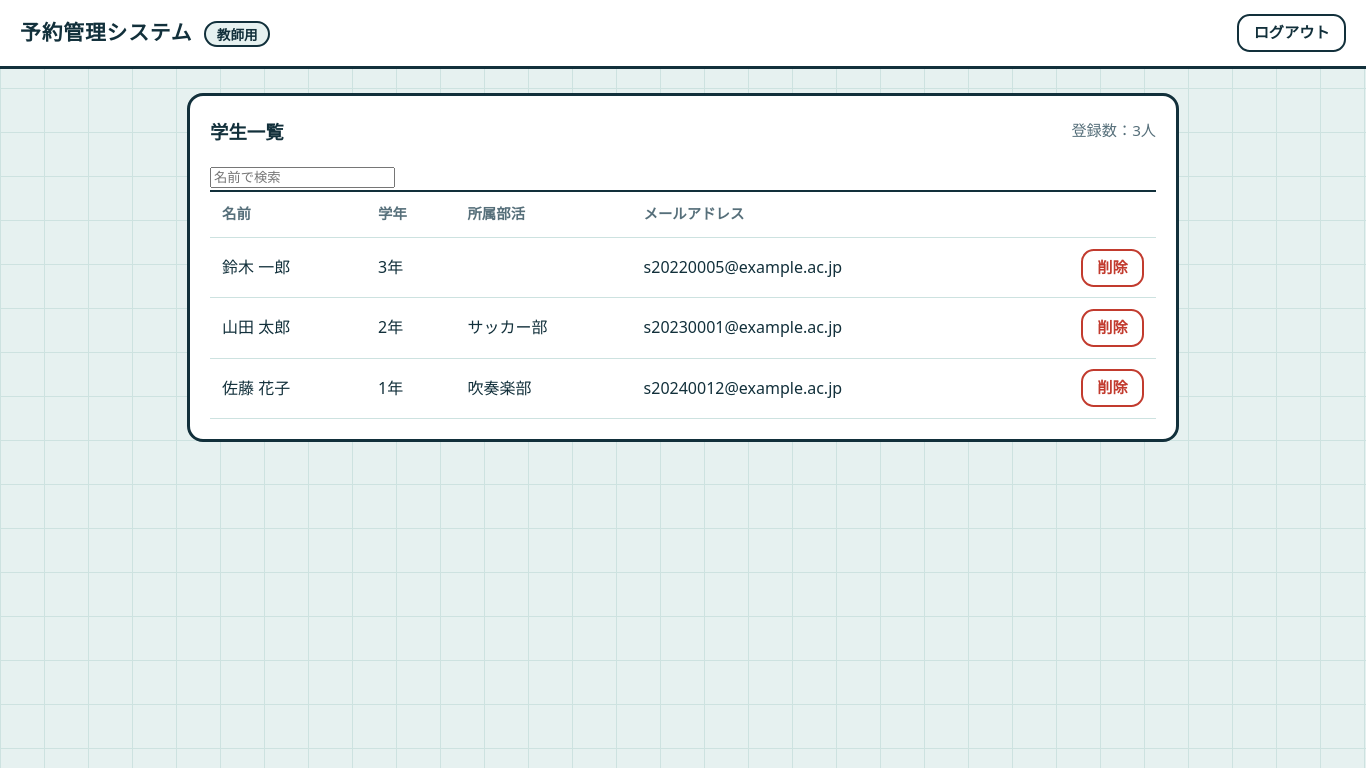
学生一覧画面（教師用） › 「削除する」で、DELETE /students/{login_id} を呼び、一覧から消えて、メッセージを表示する
Check: the heading "学生一覧" is shown, box top-left (210, 116), bottom-right (284, 147)
Click the button with aria-label "山田 太郎を削除" at (1112, 328), box top-left (1081, 309), bottom-right (1144, 347)
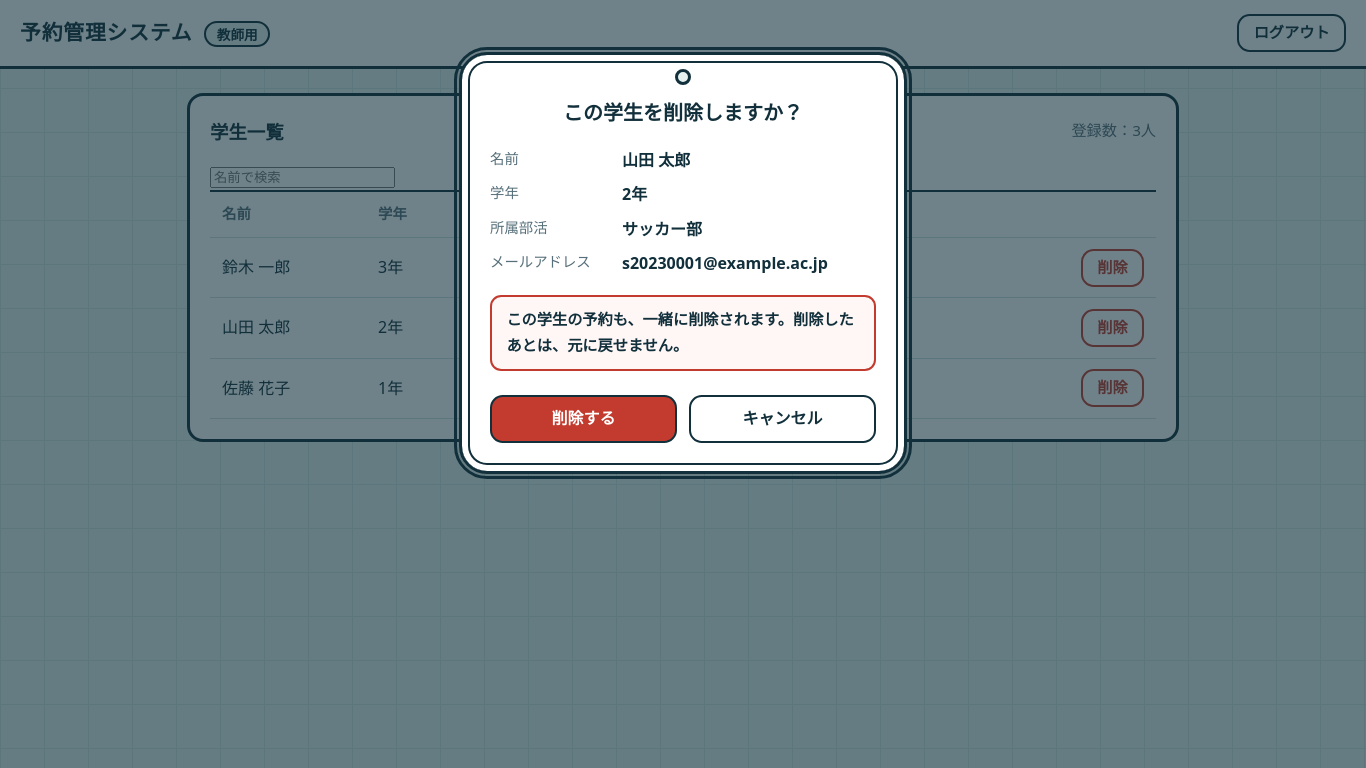
Click the button "削除する" at (584, 419), box top-left (490, 395), bottom-right (677, 443)
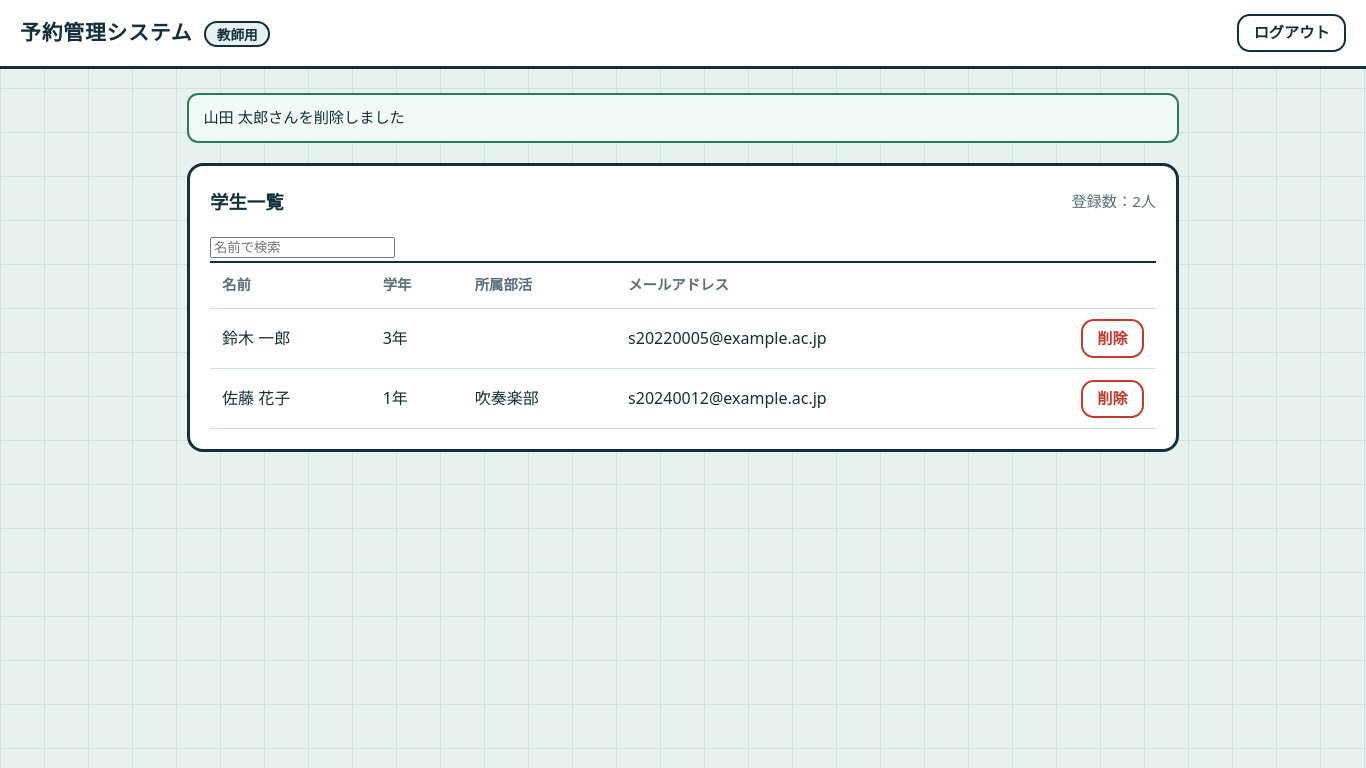
Check: the message reads "山田 太郎さんを削除しました", box top-left (203, 107), bottom-right (405, 127)
Check: the dialog is gone
Check: the text "登録数：2人" is shown, box top-left (1071, 189), bottom-right (1156, 215)
